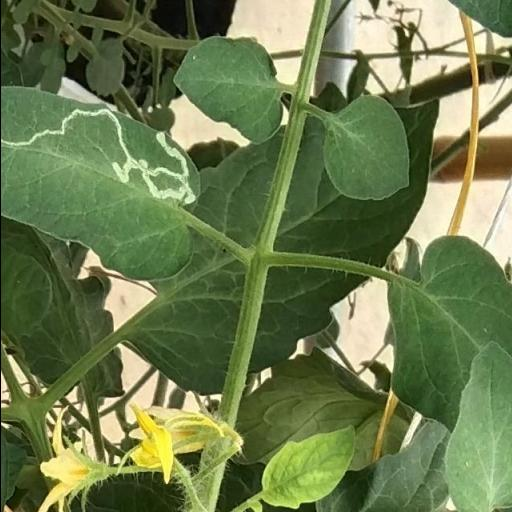disease_tomato: (0, 82, 200, 280)
